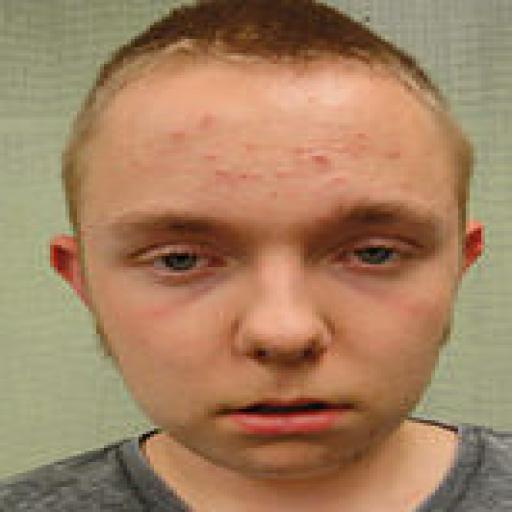Autism: (26, 6, 509, 481)
